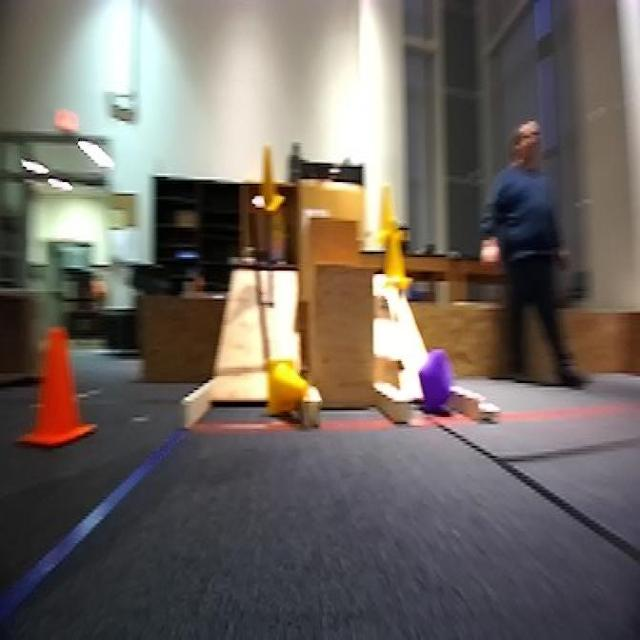frc_cone: (268, 364, 314, 419), (255, 146, 286, 214), (383, 218, 412, 284), (381, 184, 408, 242)
frc_cube: (418, 354, 452, 407)
